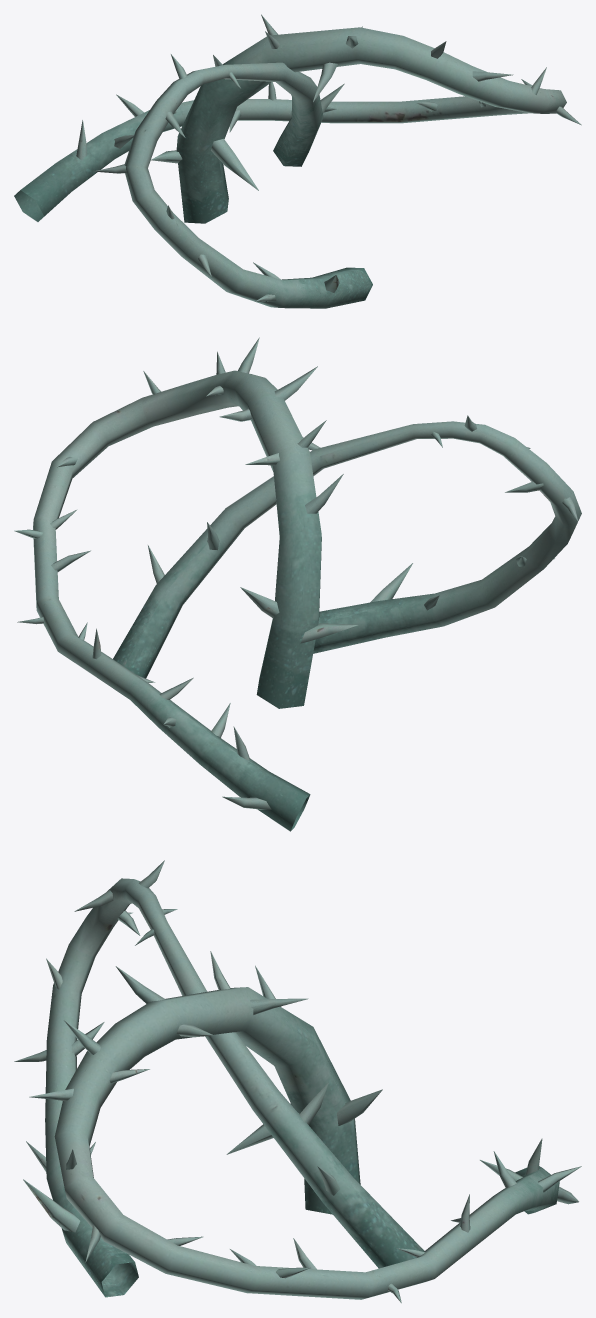
File: abstract-fantasy-deco 2.fbx
3 renders of one model, top to bottom at view 1: azimuth 30°, elevation 25°; view 2: azimuth 150°, elevation 25°; view 3: azimuth 270°, elevation 25°, orthographic. The views are drawn at different scales.
Parts seen in each view (by area): view 1: thing-06_d; view 2: thing-06_d; view 3: thing-06_d.
Part boxes in pixels (left/top/right/bottom): thing-06_d: left=14, top=14, right=581, bottom=308; thing-06_d: left=14, top=337, right=581, bottom=831; thing-06_d: left=14, top=860, right=581, bottom=1303.
Size of the model in its own units: 351 by 197 by 294.
Materials: 1 (1 with a texture image).
